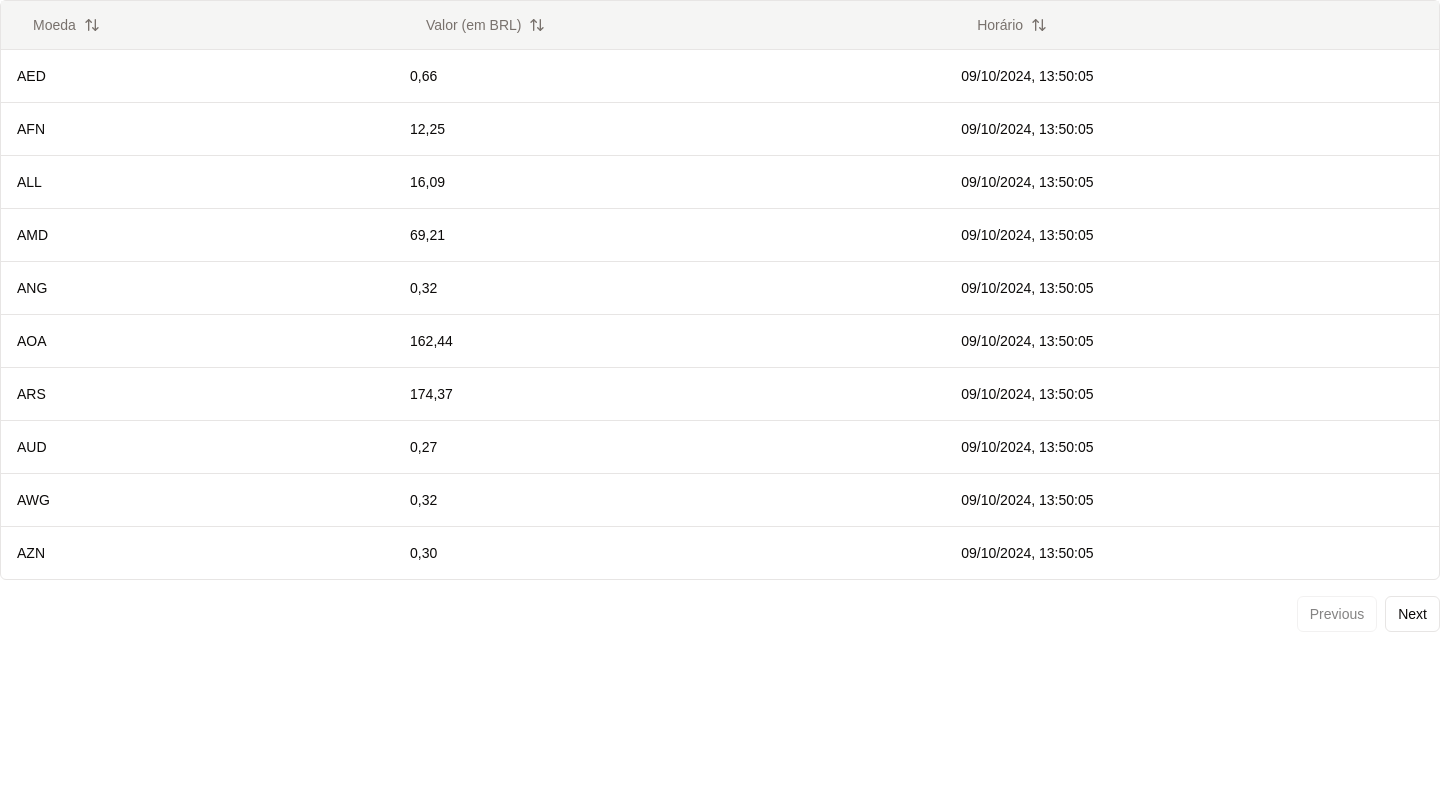
Test: Currency table tests when table load with success › should go to previous page clicking on previous button
Check: the row with test id "AED" is shown, box [1,49,1439,102]
Click the button with test id "next-button".
click(1413, 614)  # box [1385,596,1440,632]
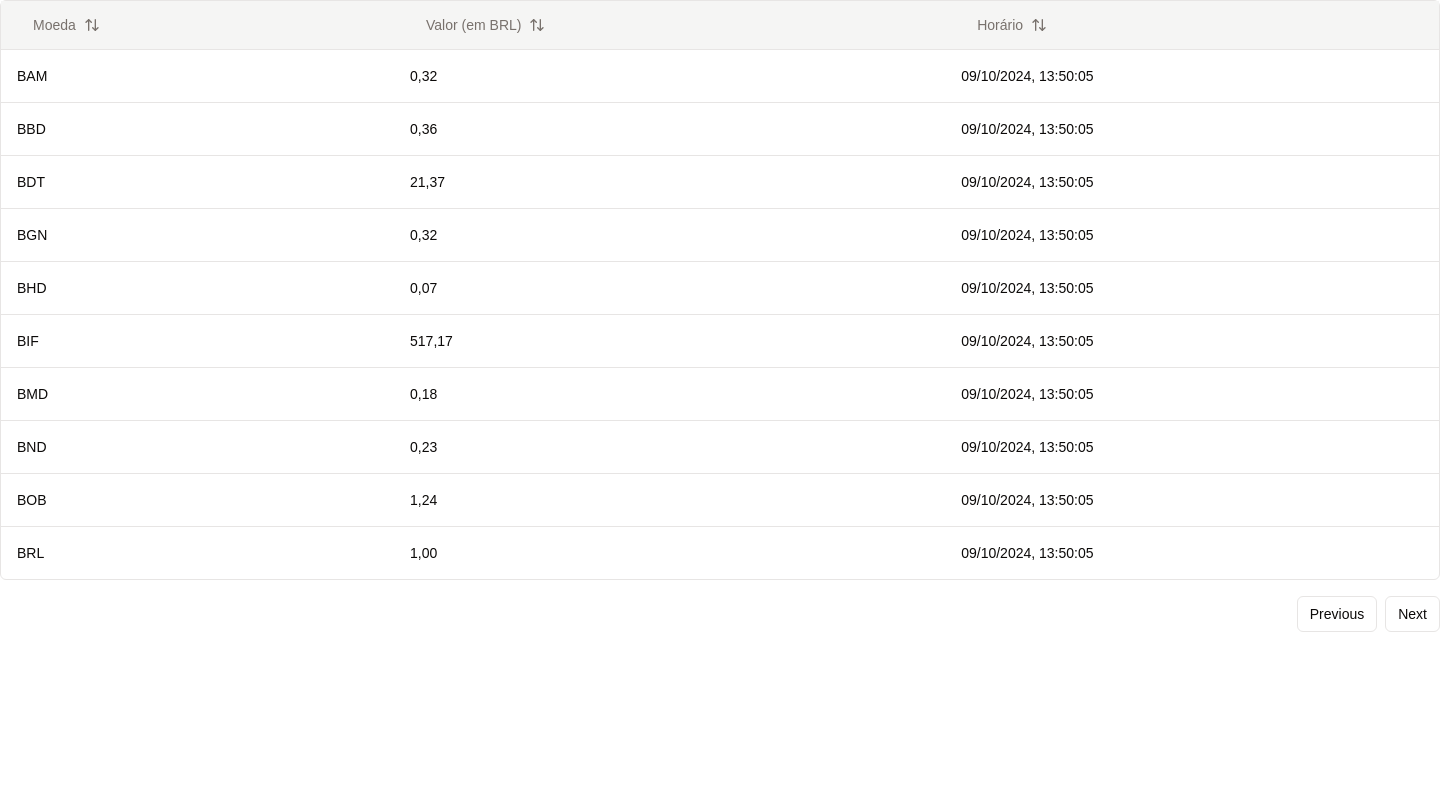
Check: the row with test id "BAM" is shown, box [1,49,1439,102]
Check: the row with test id "BBD" is shown, box [1,102,1439,155]
Check: the row with test id "BDT" is shown, box [1,155,1439,208]
Click the button with test id "previous-button".
click(1337, 614)  # box [1297,596,1377,632]
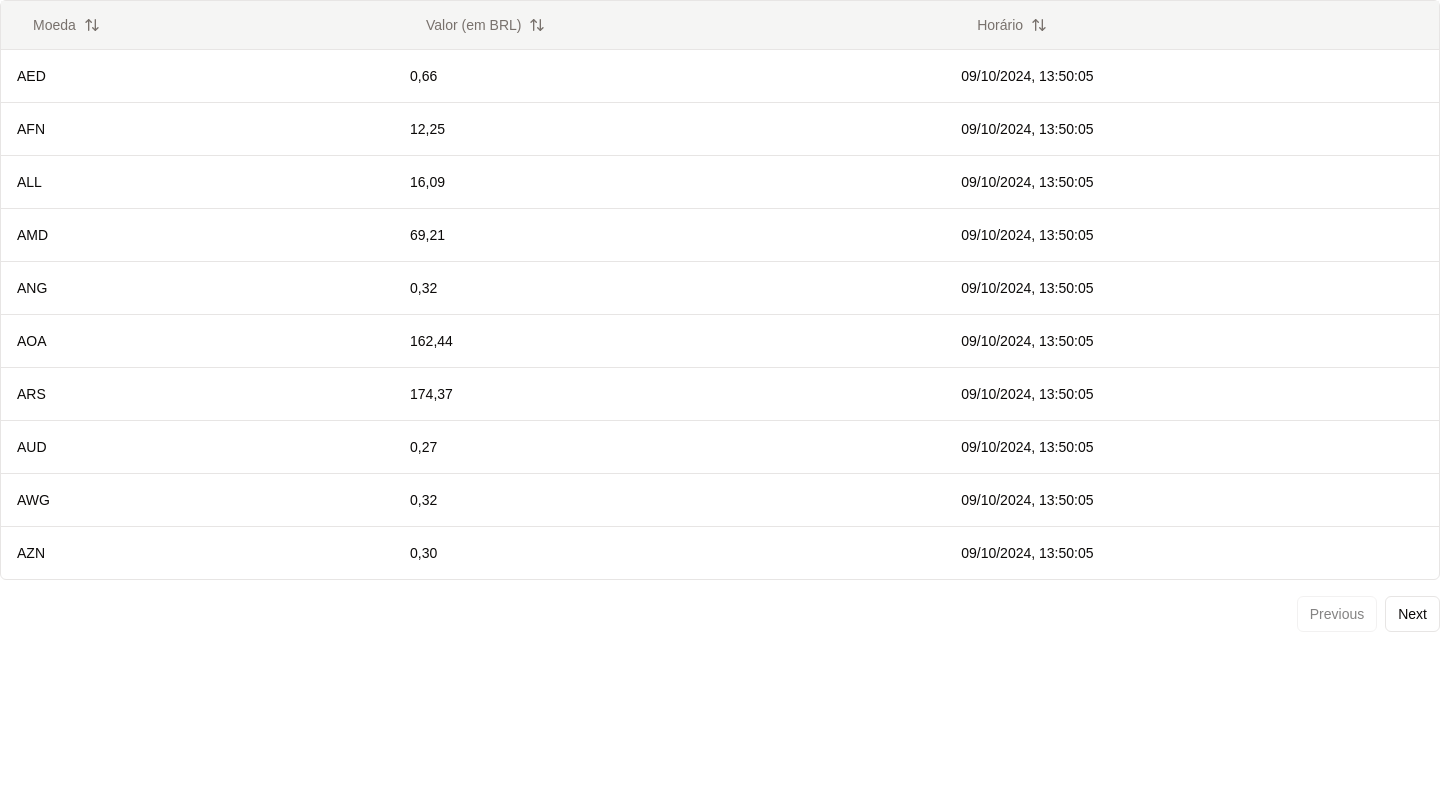
Check: the row with test id "AED" is shown, box [1,49,1439,102]
Check: the row with test id "AFN" is shown, box [1,102,1439,155]
Check: the row with test id "ALL" is shown, box [1,155,1439,208]
